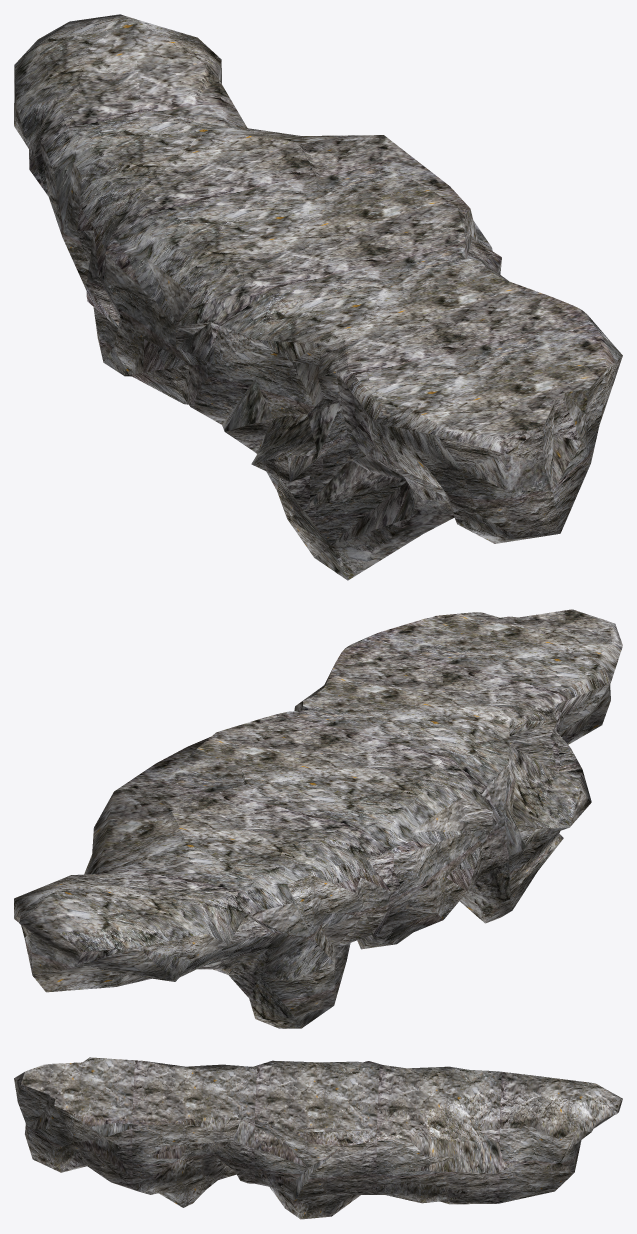
The model's file is rock.obj.
The picture shows the model from 3 angles, top to bottom: view 1: azimuth 30°, elevation 25°; view 2: azimuth 150°, elevation 25°; view 3: azimuth 270°, elevation 25°; orthographic projection. The views are drawn at different scales.
Visible parts, largest first — view 1: Group9230; view 2: Group9230; view 3: Group9230.
Boxes of the visible parts, left/top/right/bottom form: Group9230: left=14, top=14, right=622, bottom=580; Group9230: left=14, top=609, right=622, bottom=1028; Group9230: left=14, top=1057, right=622, bottom=1219.
Bounding box in the file's own units: 442 × 311 × 1180.
